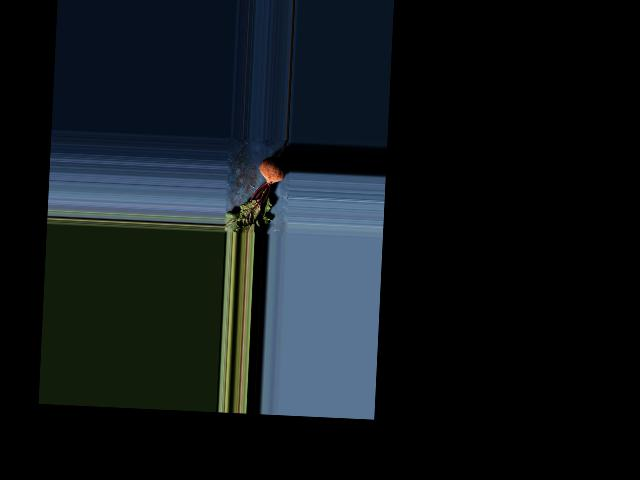beet: (224, 137, 288, 235)
